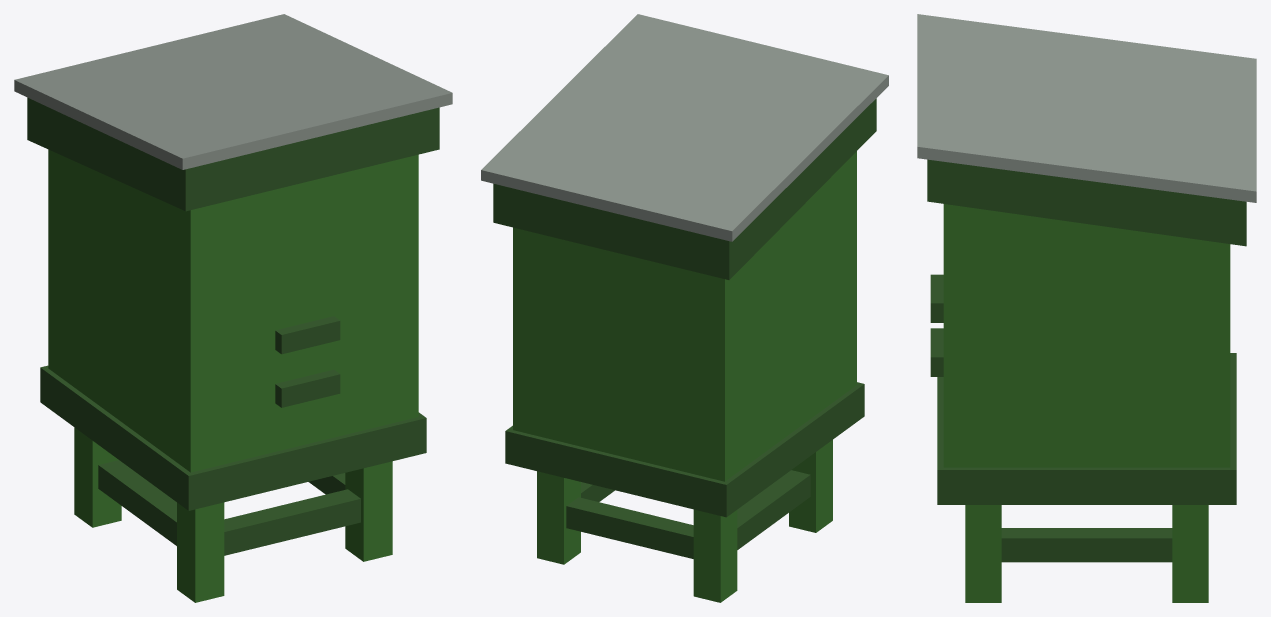
File: Beehive_1.fbx
3 views of the same model, side by side, from view 1: azimuth 30°, elevation 25°; view 2: azimuth 150°, elevation 25°; view 3: azimuth 270°, elevation 25° (orthographic). The views are drawn at different scales.
Visible parts, largest first — view 1: Beehive_1; view 2: Beehive_1; view 3: Beehive_1.
Part boxes in pixels (<box>): Beehive_1: <box>14,14,452,602</box>; Beehive_1: <box>481,14,888,602</box>; Beehive_1: <box>917,14,1256,602</box>.
Bounding box in the file's own units: 72.58 × 121 × 78.45.
